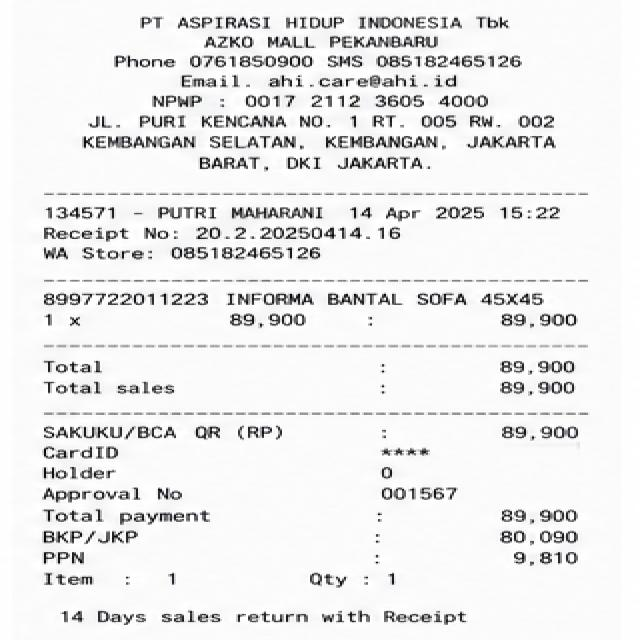date: (341, 202, 569, 222)
store: (134, 9, 518, 53)
total: (41, 506, 586, 525)
